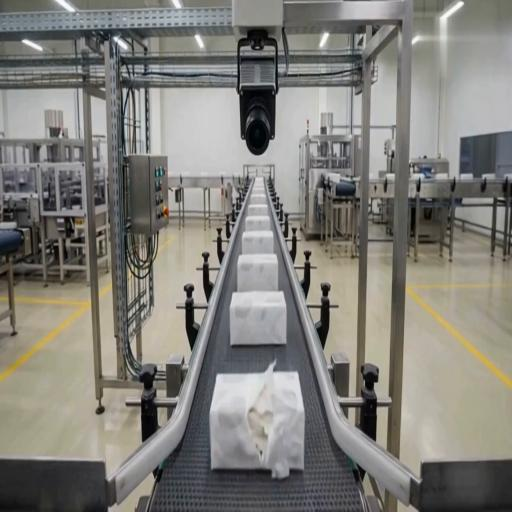defective: (207, 356, 306, 480)
good: (230, 292, 286, 346), (238, 254, 278, 291), (243, 231, 275, 255), (246, 216, 270, 231), (248, 205, 268, 216), (250, 194, 267, 204), (252, 183, 265, 192), (255, 177, 263, 185)
